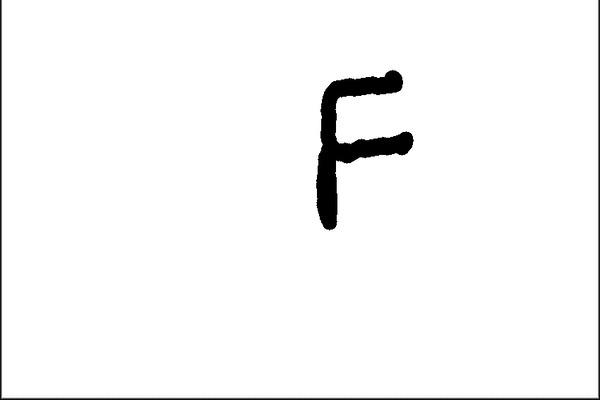F: (310, 65, 418, 232)
